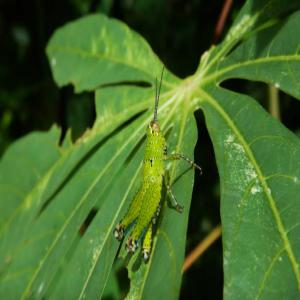locust: (99, 69, 203, 279)
